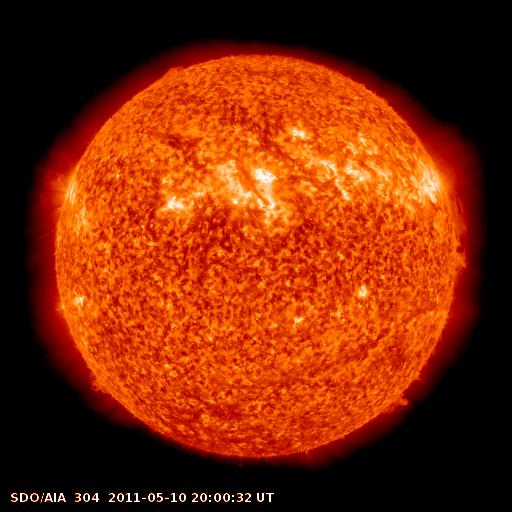prominence: (435, 173, 479, 280), (373, 388, 414, 423), (81, 366, 117, 404), (156, 58, 198, 89)
